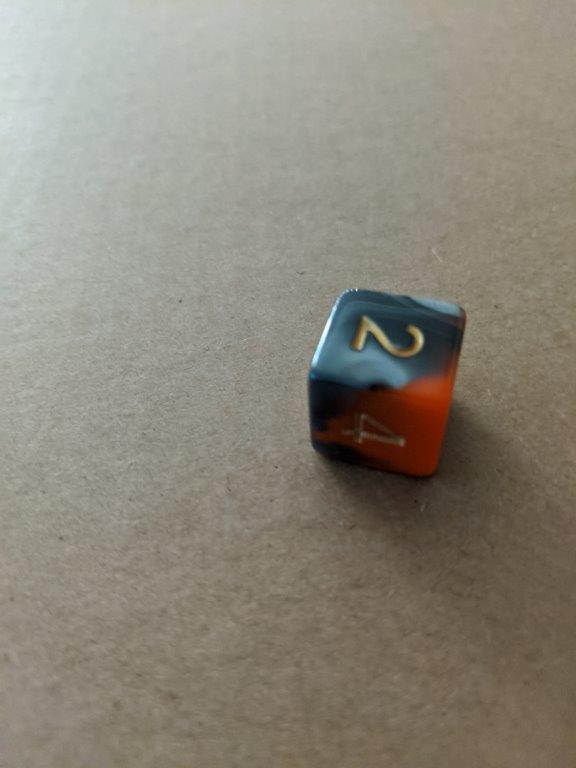d6-2: (308, 286, 468, 475)
